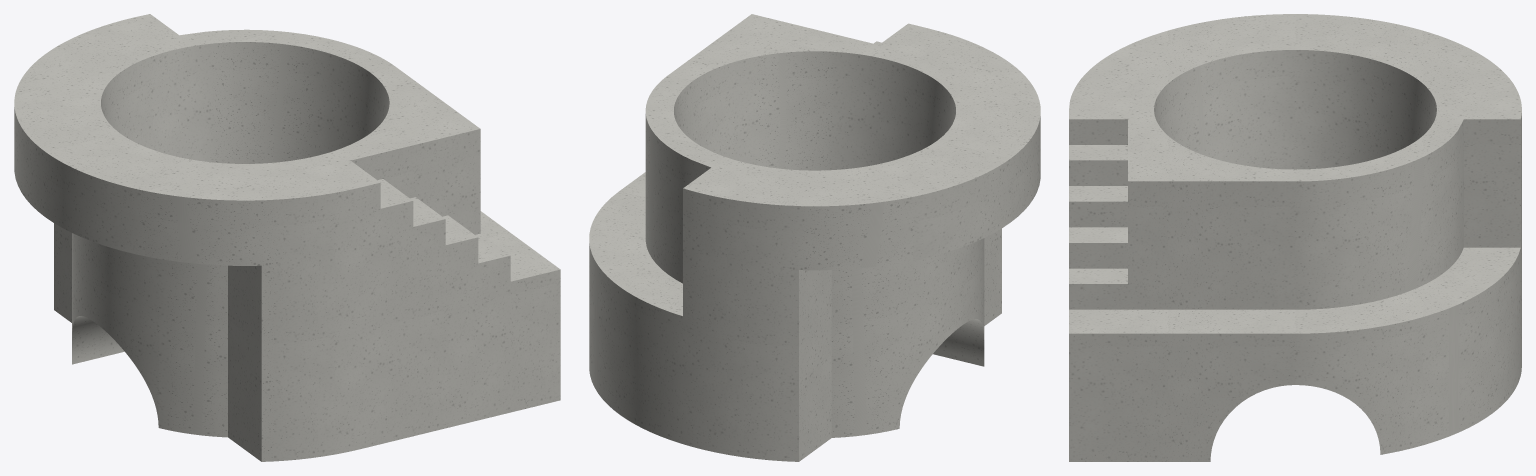
The model's file is maceta-yeso.glb.
The picture shows the model from 3 angles, left to right: view 1: azimuth 30°, elevation 25°; view 2: azimuth 150°, elevation 25°; view 3: azimuth 270°, elevation 25°; orthographic projection. The views are drawn at different scales.
Visible parts, largest first — view 1: pieza_0; view 2: pieza_0; view 3: pieza_0.
Part boxes in pixels (x1,y1,x2,y2): pieza_0: (14,14,560,461); pieza_0: (589,14,1040,461); pieza_0: (1069,14,1521,461).
Size of the model in its own units: 0.16 by 0.1 by 0.16.
Materials: 1 (1 with a texture image).
